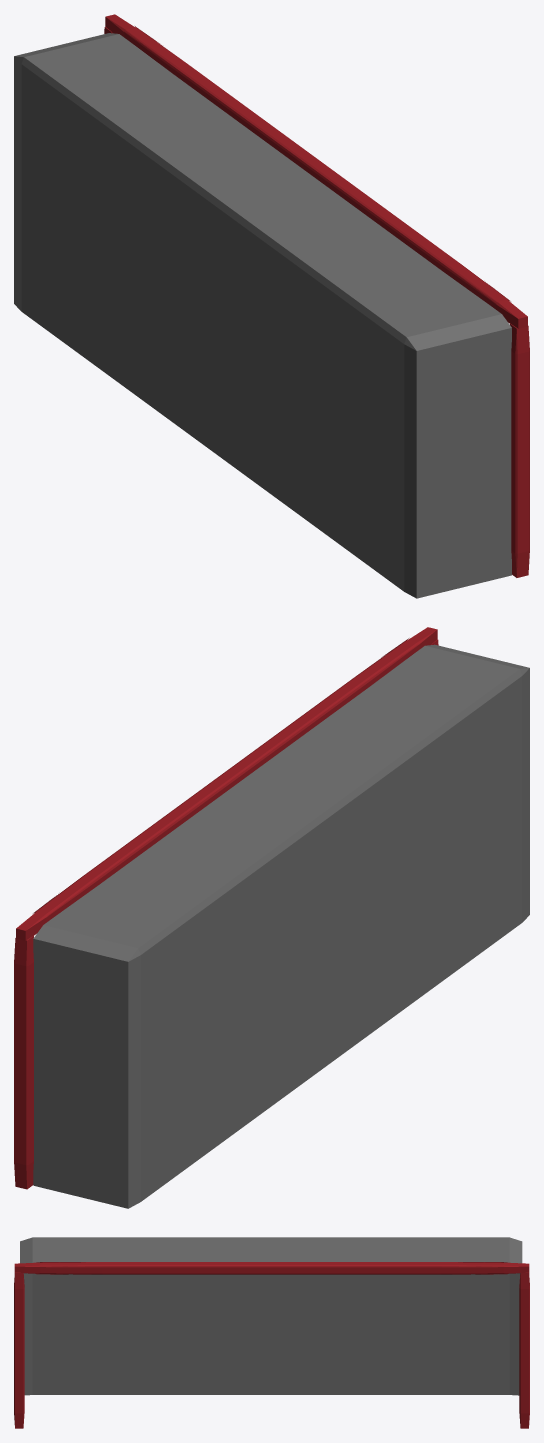
The model's file is goal.fbx.
3 views of the same model, one above another, from view 1: azimuth 30°, elevation 25°; view 2: azimuth 150°, elevation 25°; view 3: azimuth 270°, elevation 25° (orthographic). The views are drawn at different scales.
Parts seen in each view (by area): view 1: Cube, Cube.003, Cube.001; view 2: Cube, Cube.003, Cube.002; view 3: Cube, Cube.003, Cube.001, Cube.002.
Part boxes in pixels (x1,y1,x2,y2): Cube: (14, 33, 511, 598); Cube.003: (105, 14, 527, 328); Cube.001: (510, 323, 529, 577); Cube: (33, 644, 529, 1208); Cube.003: (16, 627, 437, 940); Cube.002: (14, 935, 33, 1189); Cube: (20, 1237, 522, 1395); Cube.003: (14, 1262, 529, 1274); Cube.001: (14, 1272, 24, 1428); Cube.002: (519, 1272, 529, 1428).
Bounding box in the file's own units: 229 × 512 × 1467.
